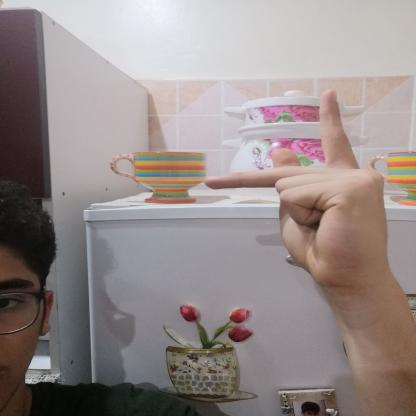DHAA: (193, 80, 404, 302)
